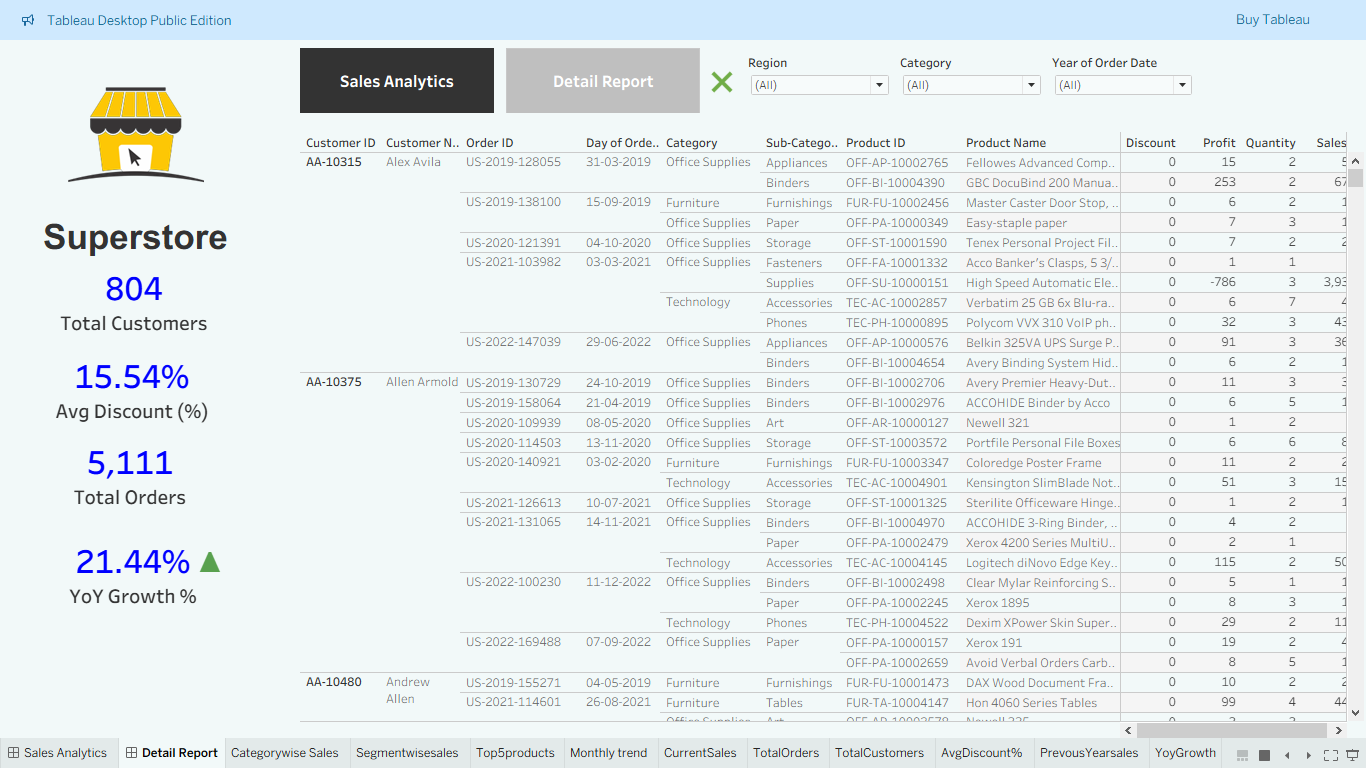

What the dashboard file says about the page in this screenshot:
{"tool":"tableau","page":{"name":"Detail Report","canvas":[1000,1000],"units":"permille","ordinal":0},"visuals":[{"type":"dashboard-object","box":[219.9,10.9,142,94.2]},{"type":"dashboard-object","box":[370.6,10.9,142,94.2]},{"type":"filter","title":"CustomerTable","param":"[federated.0kdh5m30j3o63u1c0fvgq1x6zy2k].[none:Region:nk]","box":[544.7,14.3,111.3,90.2]},{"type":"filter","title":"CustomerTable","param":"[federated.0kdh5m30j3o63u1c0fvgq1x6zy2k].[none:Category:nk]","box":[655.9,14.3,111.3,90.2]},{"type":"filter","title":"CustomerTable","param":"[federated.0kdh5m30j3o63u1c0fvgq1x6zy2k].[yr:Order Date:ok]","box":[767.2,14.3,110.5,90.2]},{"type":"dashboard-object","box":[518.6,38,20.8,43.5]},{"type":"image","param":"Image/Picture1.png","box":[50,63.4,99.2,159.4]},{"type":"worksheet","title":"CustomerTable","mark":"Automatic","rows":["Customer ID","Customer Name","Order ID","Order Date","Category","Sub-Category","Product ID","Product Name"],"box":[219.9,132.2,779.2,869.6]},{"type":"title","box":[15.7,244.6,167.9,76.1]},{"type":"worksheet","title":"TotalOrders","mark":"Text","box":[20.2,572.5,150,141.3]},{"type":"worksheet","title":"YoyGrowth","mark":"Automatic","box":[17.2,715.6,161.2,126.8]},{"type":"worksheet","title":"YoyGrowth (2)","mark":"Automatic","box":[141,733.7,24.6,48.9]}]}

Visuals, with their boxes on the dashboard's canvas, which has no fixed pixel size, in thousandths of its width and height (x1, y1, x2, y2). These are canvas units, not pixel positions in the 1366x768 screenshot, which may show the page scaled, cropped or inside an application window:
dashboard-object: 220,11,362,105
dashboard-object: 371,11,513,105
"CustomerTable" filter: 545,14,656,104
"CustomerTable" filter: 656,14,767,104
"CustomerTable" filter: 767,14,878,104
dashboard-object: 519,38,539,82
image: 50,63,149,223
"CustomerTable" worksheet: 220,132,999,1002
title: 16,245,184,321
"TotalOrders" worksheet (Text marks): 20,572,170,714
"YoyGrowth" worksheet: 17,716,178,842
"YoyGrowth (2)" worksheet: 141,734,166,783
